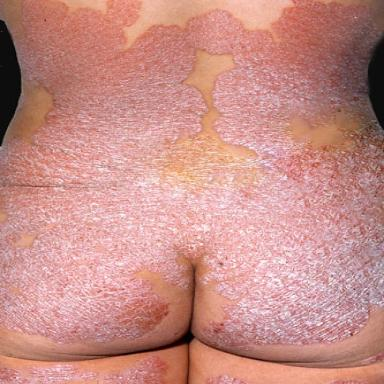Psoriasis: (2, 0, 382, 348), (1, 355, 167, 384), (206, 374, 252, 384)
